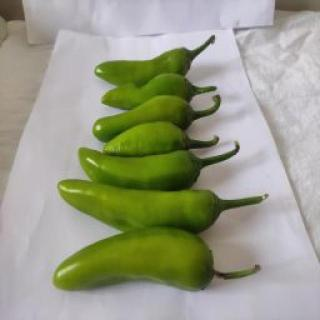Cabai Hijau: (49, 225, 265, 297), (51, 176, 267, 240), (75, 141, 243, 192), (91, 34, 223, 88)
